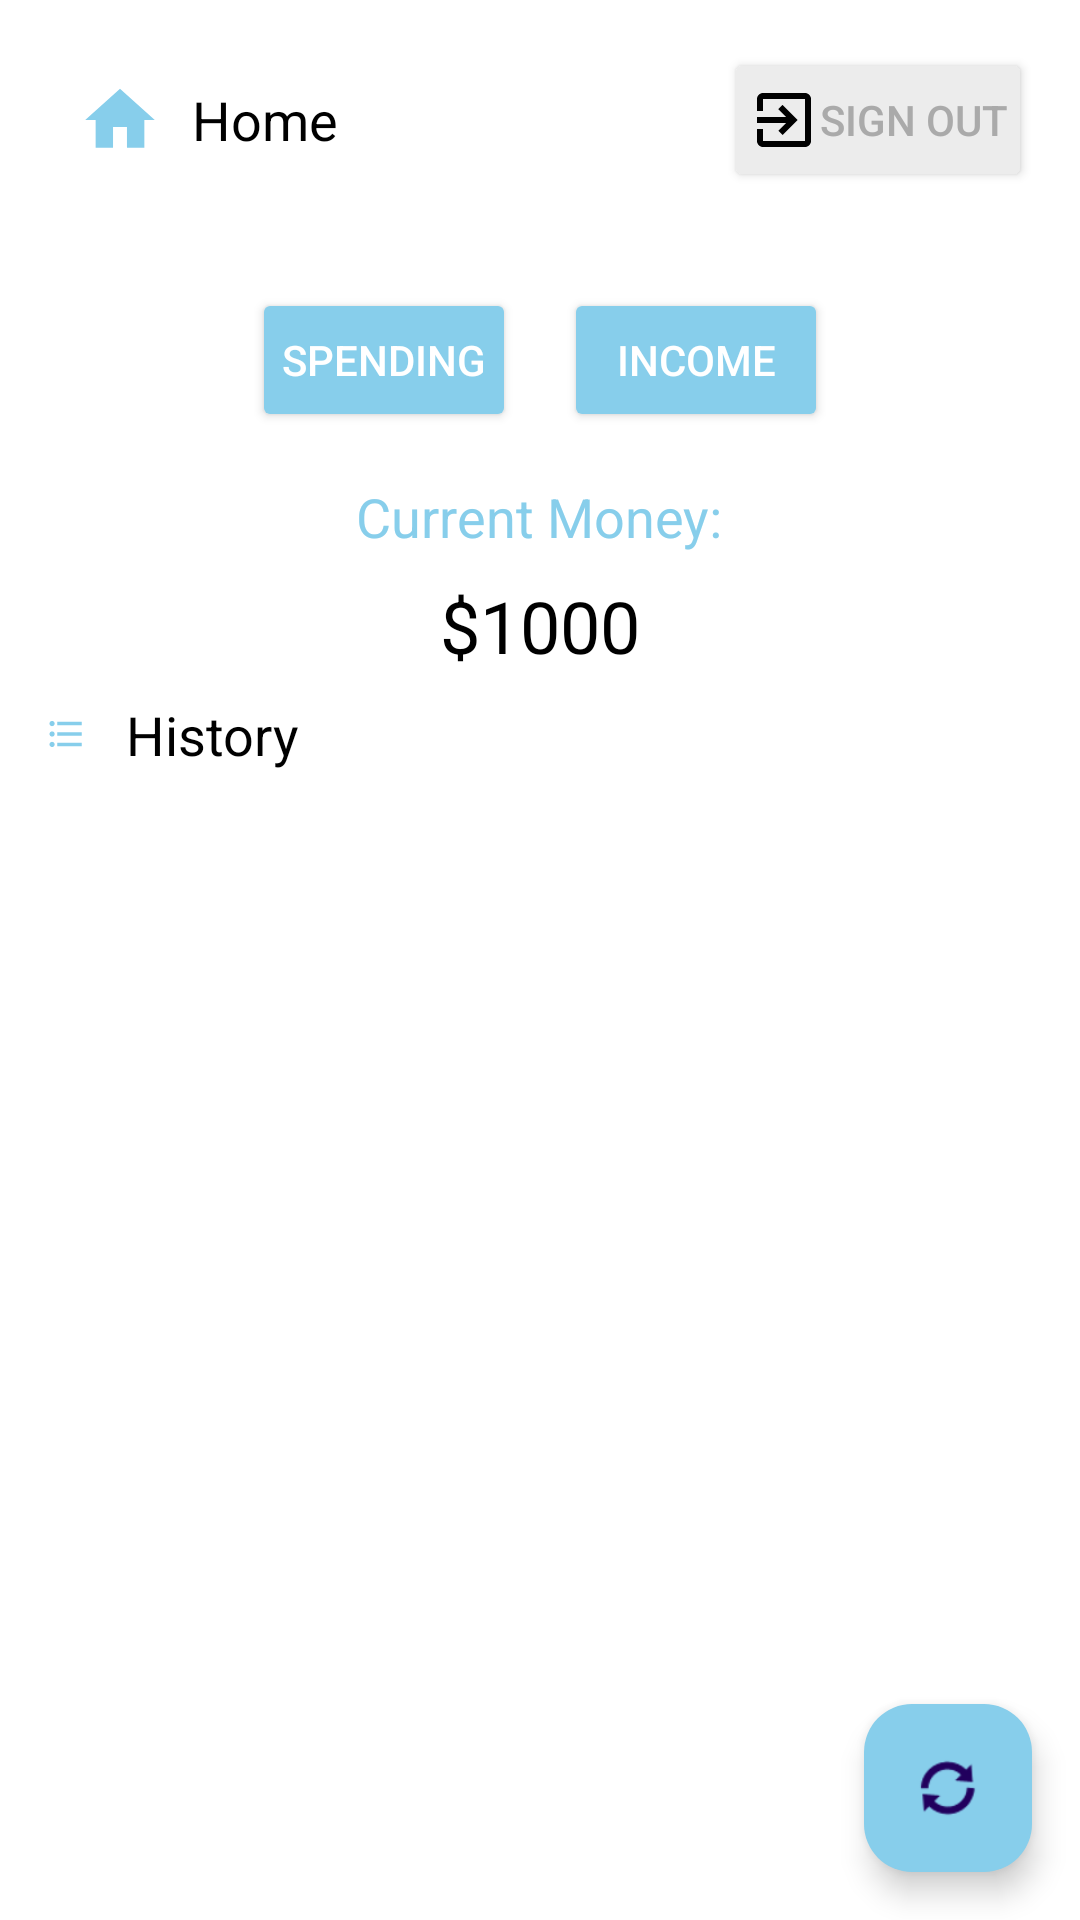

Where to tap for icons on this 1080x1920 app screen, as (x=x, y=y):
list: (x=65, y=734)
popup sync: (x=948, y=1788)
